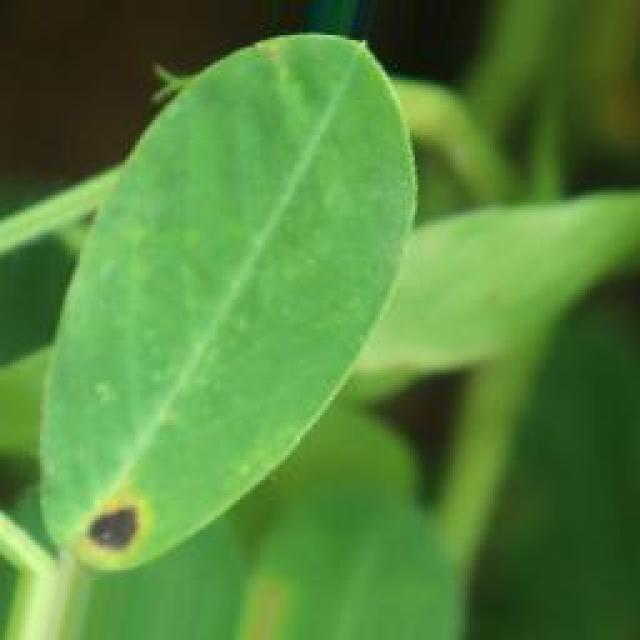Early_leaf_spot: (52, 444, 164, 580)
